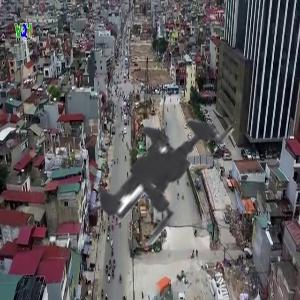drone: (14, 30, 285, 300)
